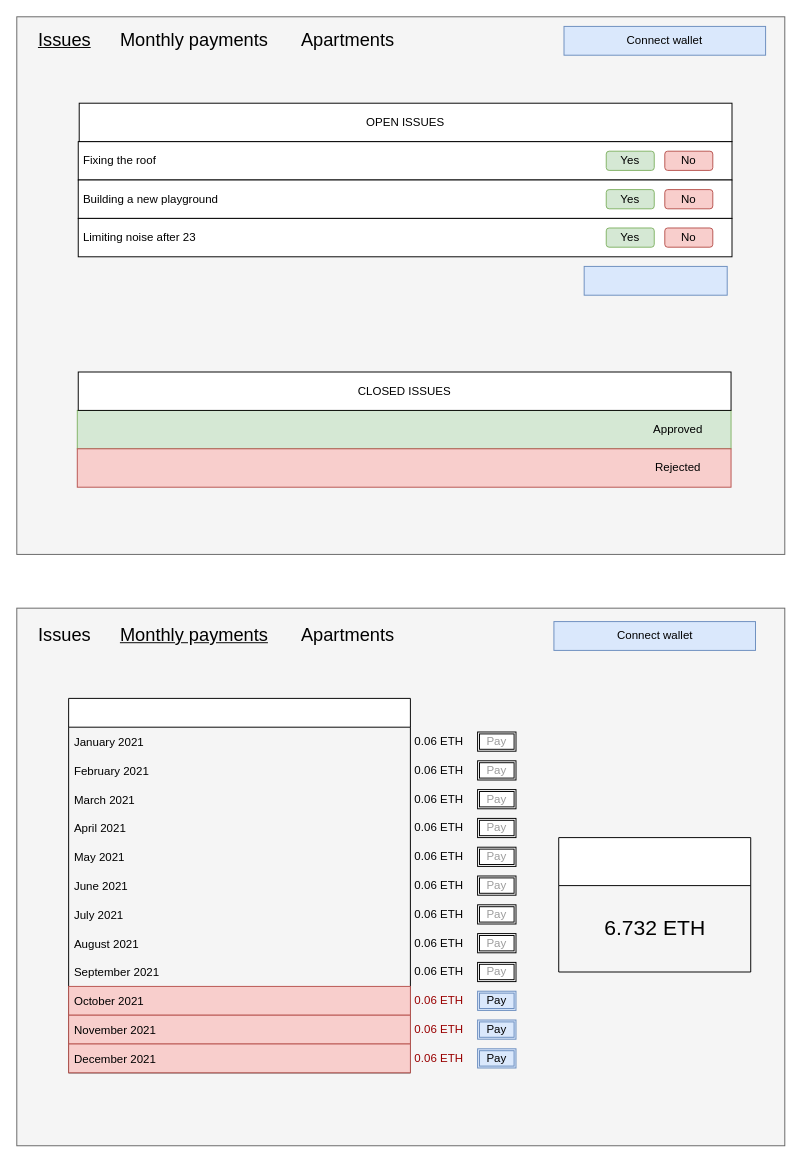
The diagram is 802 pixels wide and 1163 high, and some of its shapes have lost their labels. Here are the shapes that lost their labels. From the top down, the box of each, then its label:
(583, 265, 727, 295): Propose new issue
(76, 409, 731, 449): Fixing main gate
(76, 448, 731, 487): Cleaning every day
(68, 697, 410, 1073): Payment list
(558, 837, 751, 972): Total available funds
